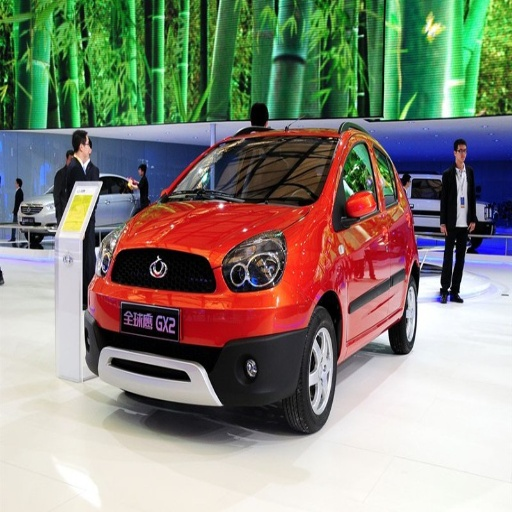back_left_door: (368, 138, 407, 315)
front_bumper: (93, 248, 311, 409)
front_glass: (161, 140, 334, 203)
front_left_door: (333, 133, 383, 340)
trunk: (93, 259, 152, 307)
